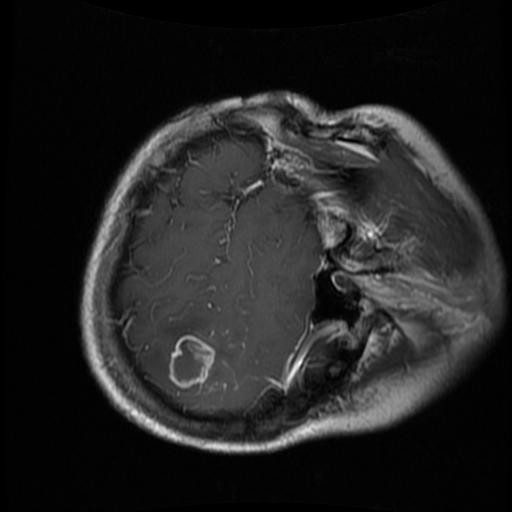glioma: (165, 332, 215, 388)
